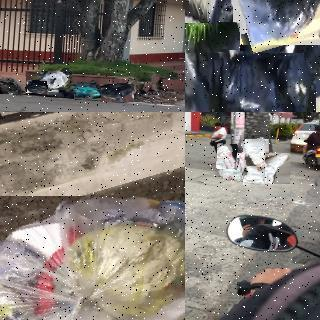Garbage: (0, 176, 185, 320), (205, 50, 308, 112), (185, 22, 241, 112), (228, 0, 320, 50), (243, 138, 271, 169), (265, 153, 290, 184), (39, 69, 73, 91), (100, 84, 134, 102), (222, 156, 245, 182), (217, 144, 238, 169), (0, 75, 26, 95), (65, 82, 97, 98), (243, 166, 268, 185), (74, 88, 101, 101), (27, 80, 47, 95)
